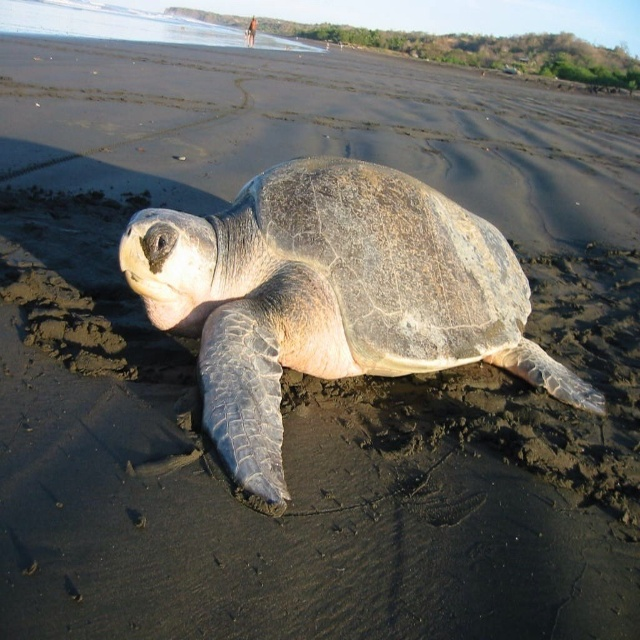Sea turtle: (118, 160, 621, 519)
